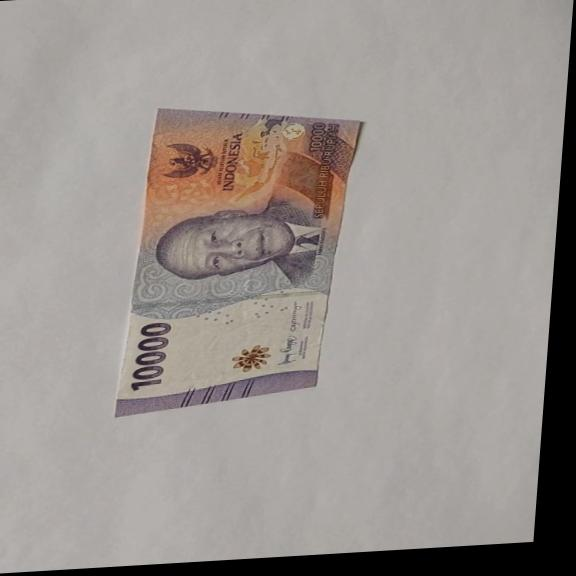Kertas: (111, 95, 365, 417), (127, 320, 173, 392)
